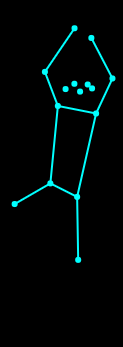tree: (8, 17, 118, 267)
